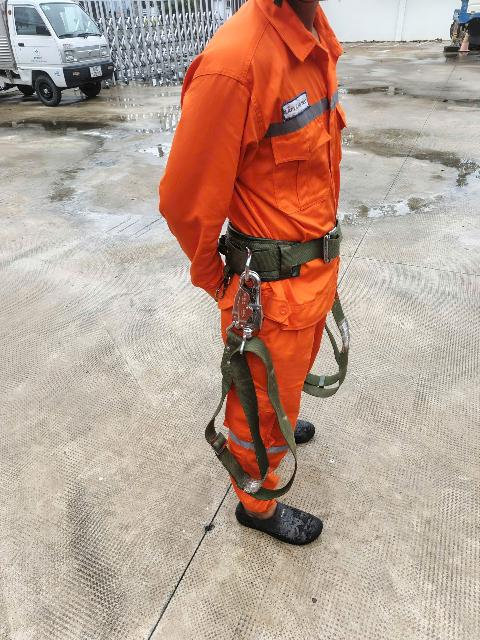harness: (211, 223, 379, 295)
shoes: (224, 481, 328, 554), (265, 409, 315, 447)
